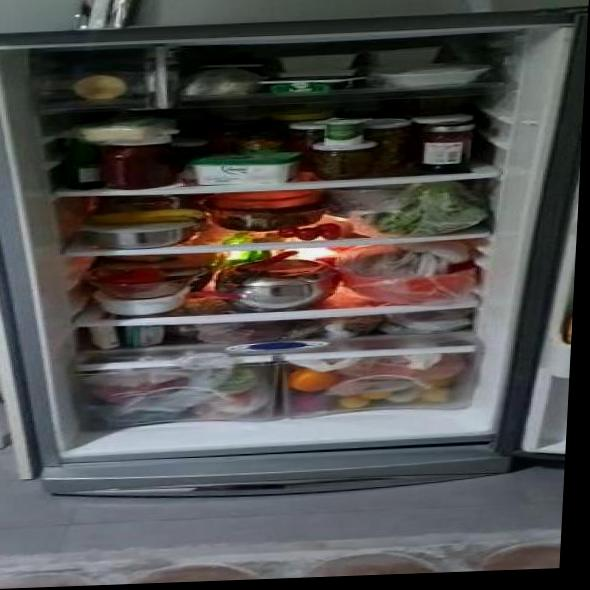banana: (95, 208, 209, 228)
cheese: (192, 151, 300, 185), (82, 119, 174, 142)
cream cheese: (259, 75, 360, 95)
lemon: (288, 368, 340, 392)
lettuce: (369, 182, 491, 237)
tomato: (279, 224, 343, 241)
tomato paste: (103, 139, 183, 190)
yoghurt: (320, 115, 372, 147)
